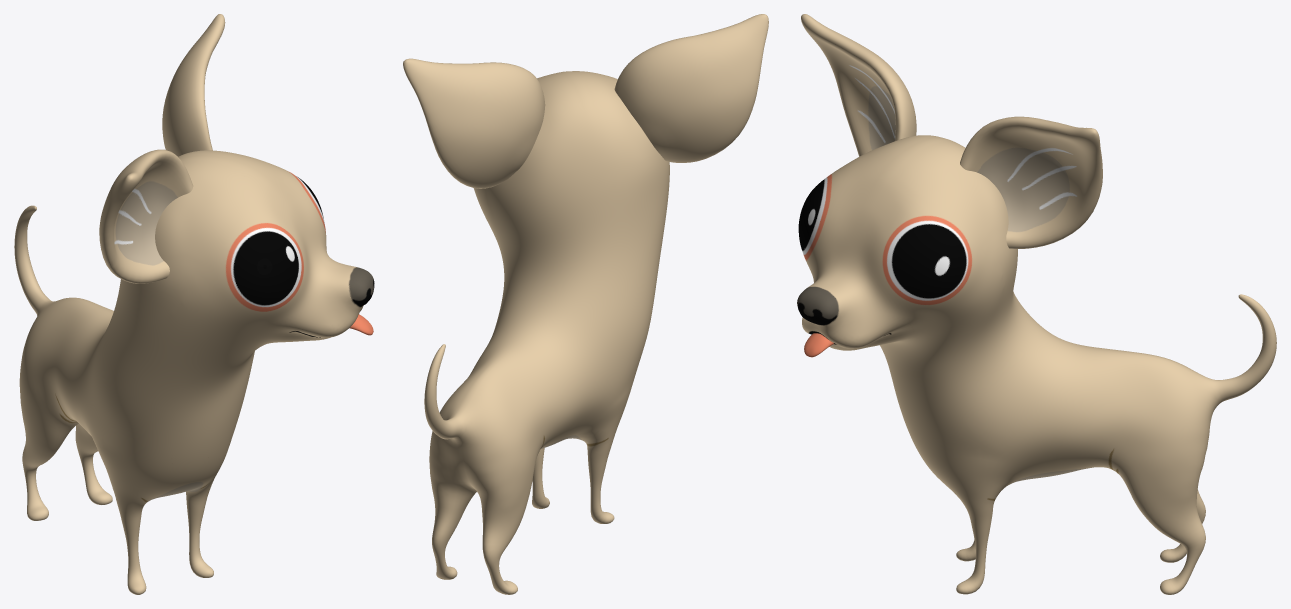
File: Chihuahua.glb
3 views of the same model, side by side, from view 1: azimuth 30°, elevation 25°; view 2: azimuth 150°, elevation 25°; view 3: azimuth 270°, elevation 25° (orthographic). The views are drawn at different scales.
Visible parts, largest first — view 1: chihuahua.1; view 2: chihuahua.1; view 3: chihuahua.1.
Part boxes in pixels (x1=…): chihuahua.1: x1=14, y1=14, x2=374, y2=594; chihuahua.1: x1=403, y1=14, x2=768, y2=594; chihuahua.1: x1=797, y1=14, x2=1276, y2=594.
Size of the model in its own units: 0.0457 by 0.0824 by 0.0713.
Materials: 1 (1 with a texture image).
